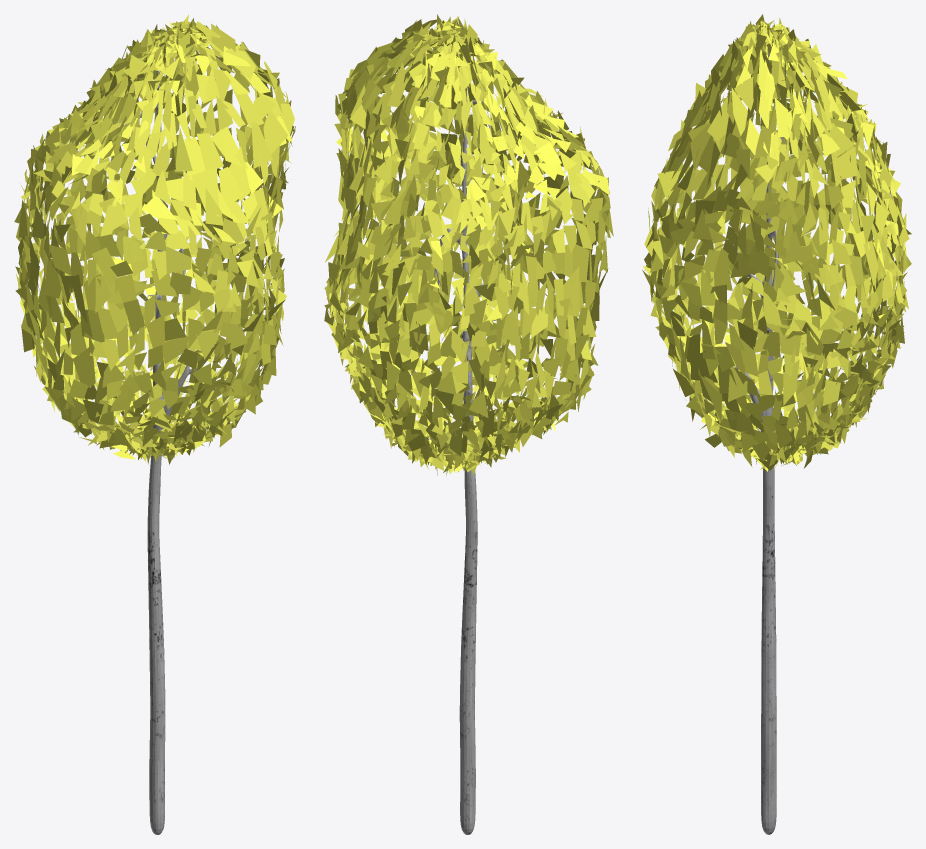
Rendered from Leaves44.fbx.
3 renders of one model, left to right at view 1: azimuth 30°, elevation 25°; view 2: azimuth 150°, elevation 25°; view 3: azimuth 270°, elevation 25°, orthographic.
Visible parts, largest first — view 1: Leaves44; view 2: Leaves44; view 3: Leaves44.
Boxes of the visible parts, box(x1,y1,x2,y2) form: Leaves44: box(14, 14, 295, 834); Leaves44: box(324, 14, 613, 834); Leaves44: box(642, 14, 911, 834).
Size of the model in its own units: 873 by 2643 by 783.
Materials: 2 (1 with a texture image).
